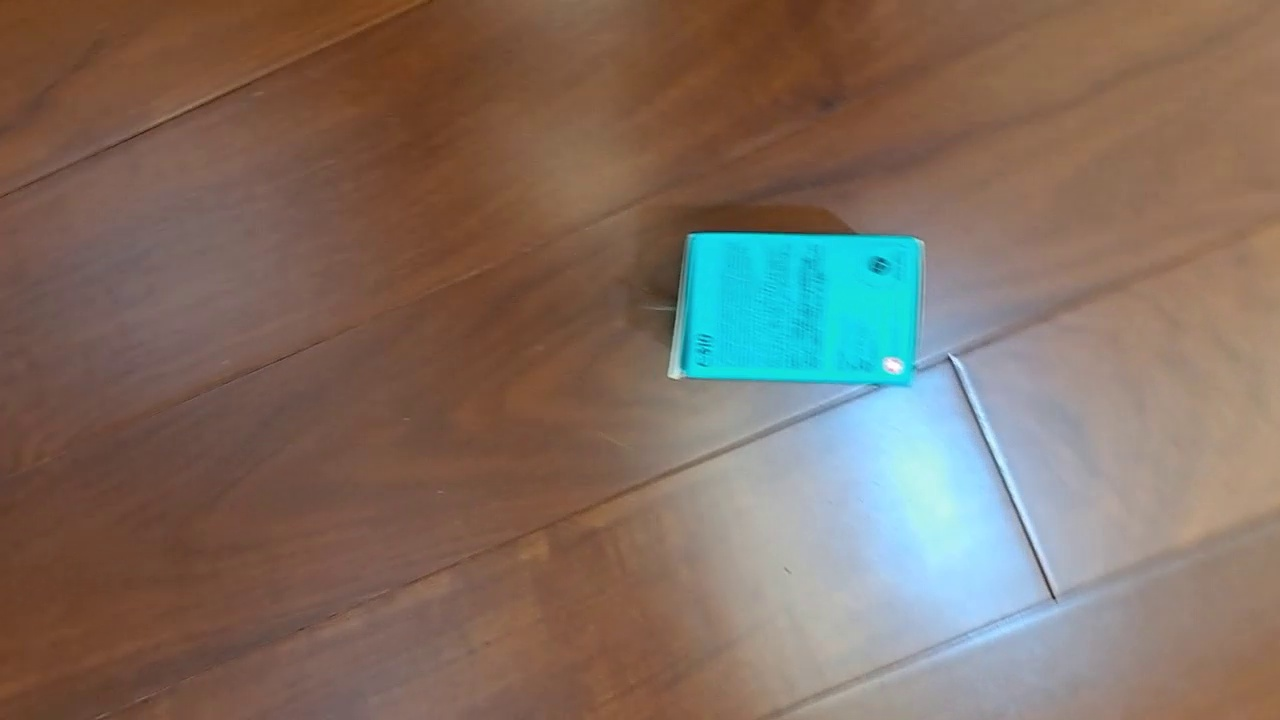webcam: (666, 231, 926, 388)
